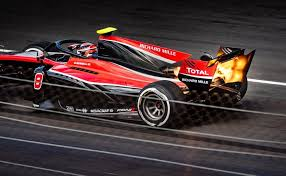FormulaOneCar: (3, 22, 256, 131)
